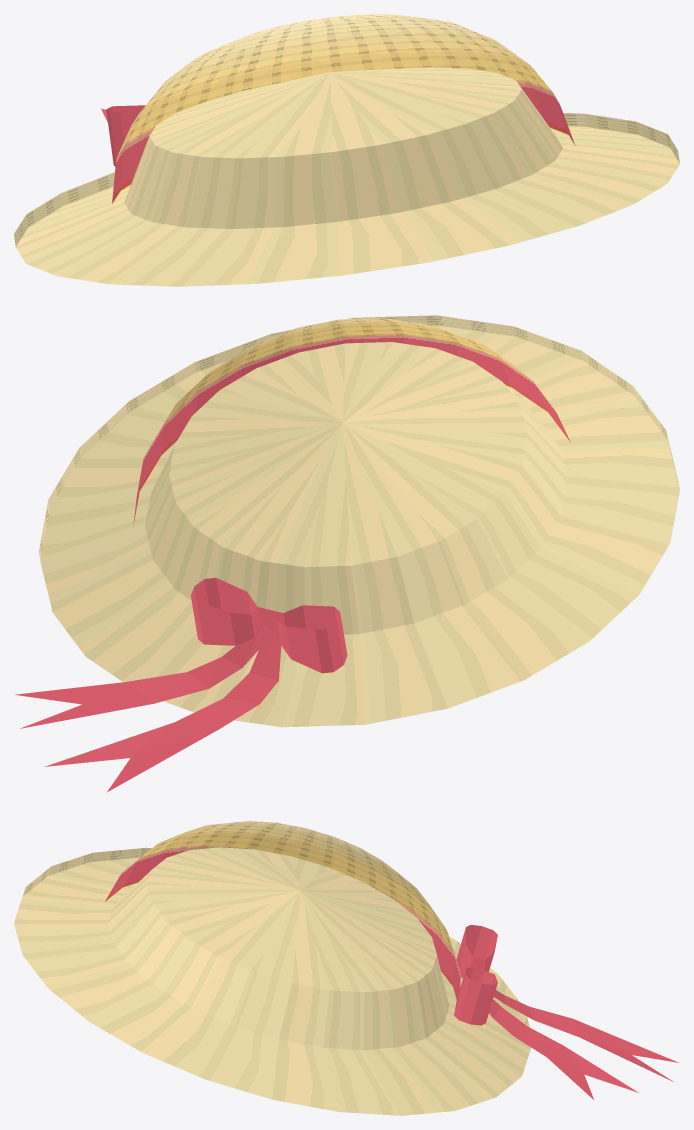
File: ps2_save-icons_natsushoujopromisedsummer.glb
The picture shows the model from 3 angles, top to bottom: view 1: azimuth 30°, elevation 25°; view 2: azimuth 150°, elevation 25°; view 3: azimuth 270°, elevation 25°; orthographic projection. The views are drawn at different scales.
Parts seen in each view (by area): view 1: base.ico; view 2: base.ico; view 3: base.ico.
Part boxes in pixels (box(x1,y1,x2,y2)): base.ico: box(14, 14, 679, 286); base.ico: box(14, 315, 679, 792); base.ico: box(14, 821, 678, 1115).
Size of the model in its own units: 3.15 by 1.38 by 3.92.
1 material, 1 textured.
